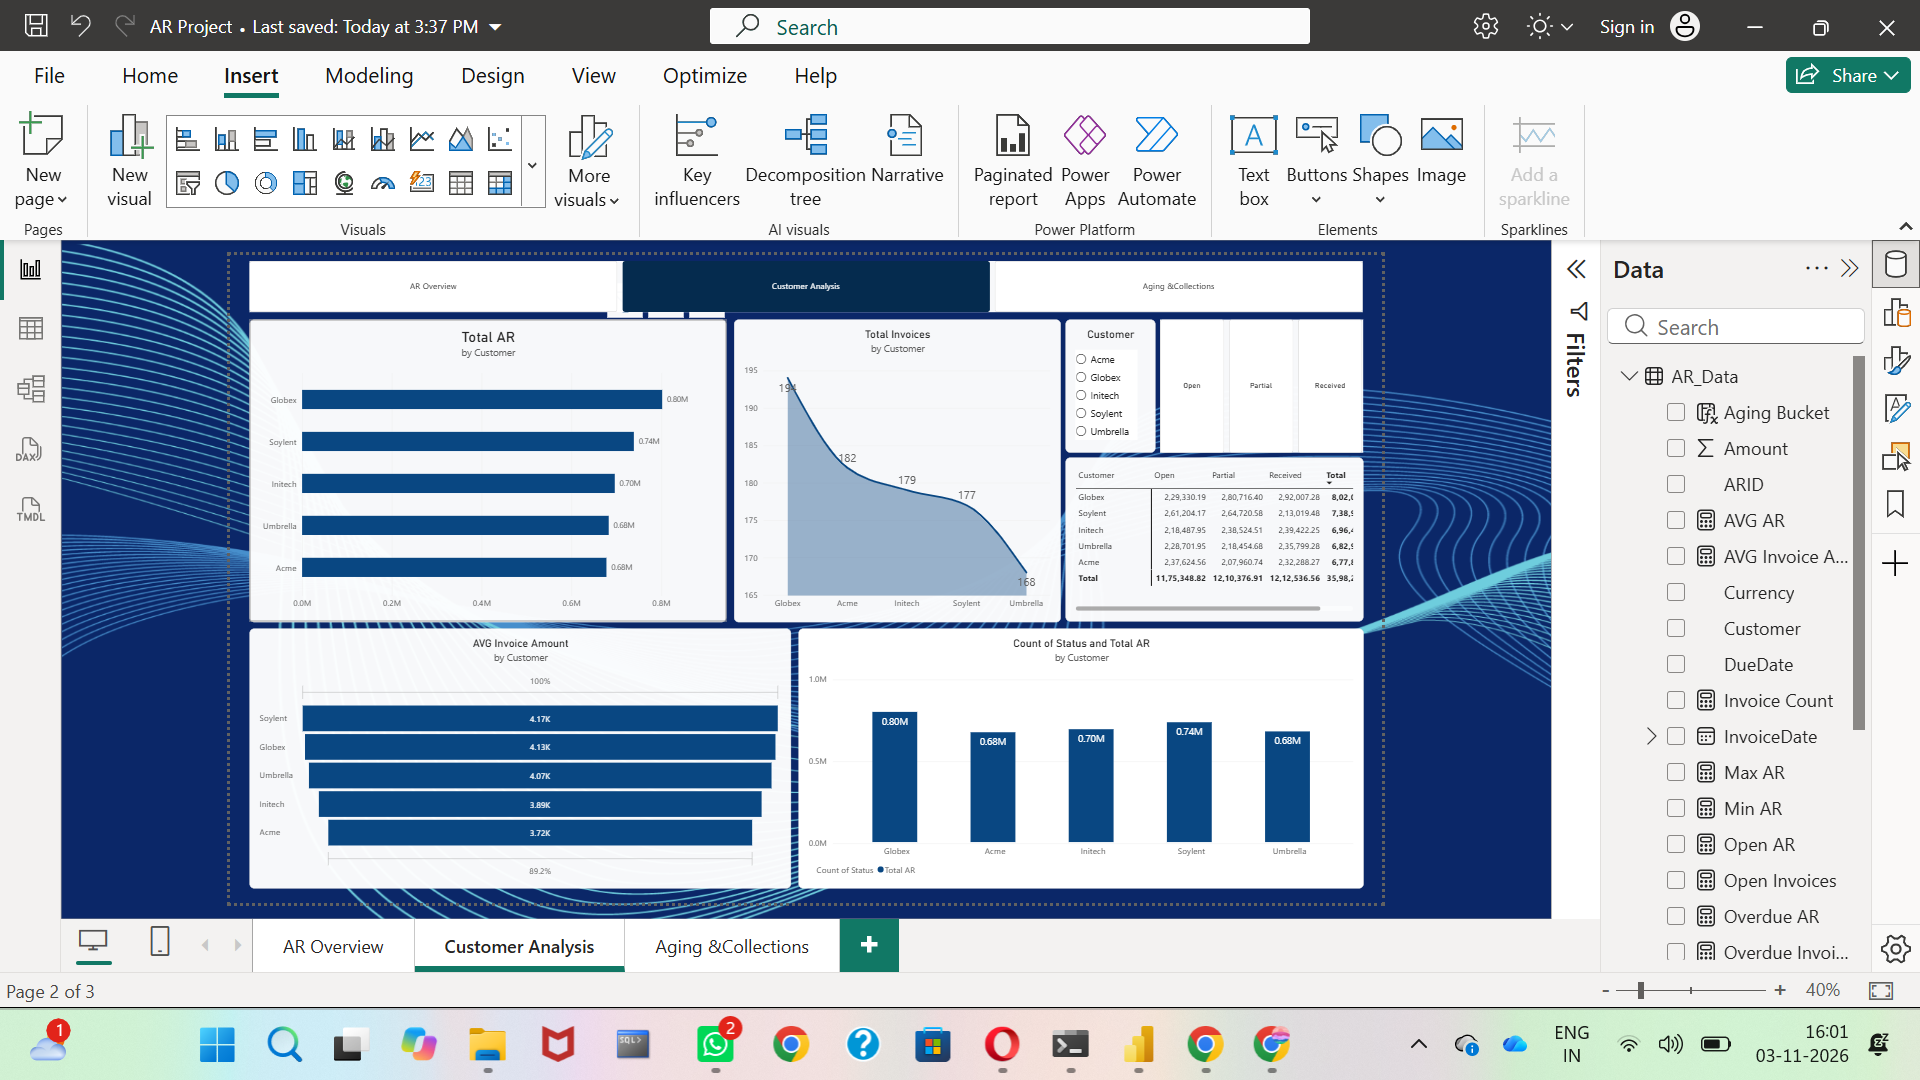

The dashboard page shown, as its layout file describes it:
{"tool":"powerbi","page":{"name":"Customer Analysis","canvas":[1920,1080],"ordinal":1},"visuals":[{"type":"barChart","fields":{"Category":["AR_Data.Customer"],"Y":["AR_Data.Total AR"]},"box":[33.3,106.7,794.4,504.4],"z":0},{"type":"areaChart","fields":{"Category":["AR_Data.Customer"],"Y":["AR_Data.Total Invoices"]},"box":[838.9,106.7,544.4,504.4],"z":1000},{"type":"columnChart","fields":{"Category":["AR_Data.Customer"],"Y":["CountNonNull(AR_Data.Status)","AR_Data.Total AR"]},"box":[946.7,622.2,942.2,433.3],"z":2000},{"type":"funnel","fields":{"Category":["AR_Data.Customer"],"Y":["AR_Data.AVG Invoice Amount"]},"box":[33.3,622.2,902.8,433.3],"z":3000},{"type":"pivotTable","fields":{"Columns":["AR_Data.Status"],"Rows":["AR_Data.Customer"],"Values":["AR_Data.Total AR"]},"box":[1392.2,337.8,496.7,273.3],"z":4000},{"type":"listSlicer","fields":{"Values":["AR_Data.Customer"]},"box":[1392.2,106.7,150,222.2],"z":5000},{"type":"advancedSlicerVisual","fields":{"Values":["AR_Data.Status"]},"box":[1550,106.7,338.9,222.2],"z":6000},{"type":"pageNavigator","box":[33.3,8.9,1855.6,85.6],"z":7000}]}

Visuals, with their boxes on the page's 1920x1080 design canvas (x1, y1, x2, y2). These are canvas units, not pixel positions in the 1920x1080 screenshot, which may show the page scaled, cropped or inside an application window:
barChart - AR_Data.Customer x AR_Data.Total AR: <box>33,107,828,611</box>
areaChart - AR_Data.Customer x AR_Data.Total Invoices: <box>839,107,1383,611</box>
columnChart - AR_Data.Customer x CountNonNull(AR_Data.Status): <box>947,622,1889,1056</box>
funnel - AR_Data.Customer x AR_Data.AVG Invoice Amount: <box>33,622,936,1056</box>
pivotTable - AR_Data.Status x AR_Data.Customer: <box>1392,338,1889,611</box>
listSlicer - AR_Data.Customer: <box>1392,107,1542,329</box>
advancedSlicerVisual - AR_Data.Status: <box>1550,107,1889,329</box>
pageNavigator: <box>33,9,1889,94</box>
